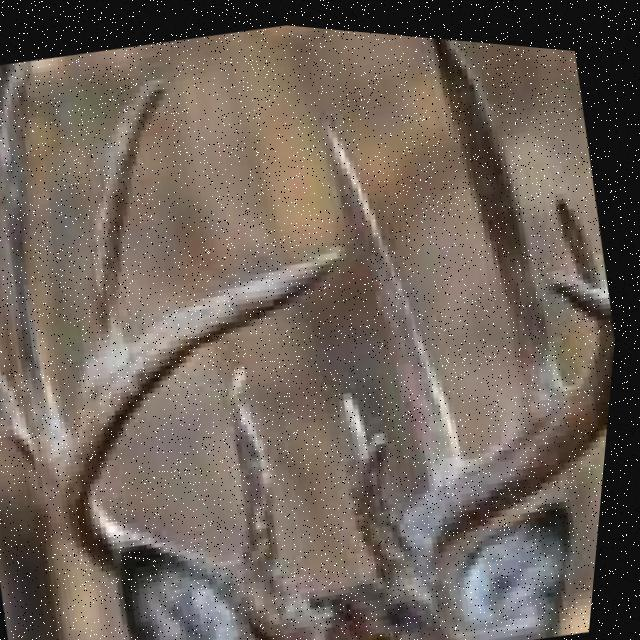L-F: (377, 268, 620, 612)
L-G1: (345, 382, 407, 540)
L-G2: (321, 109, 479, 487)
L-G3: (427, 30, 572, 408)
R-G1: (233, 351, 296, 578)
R-G3: (0, 59, 75, 458)
R-G4: (87, 71, 173, 390)
